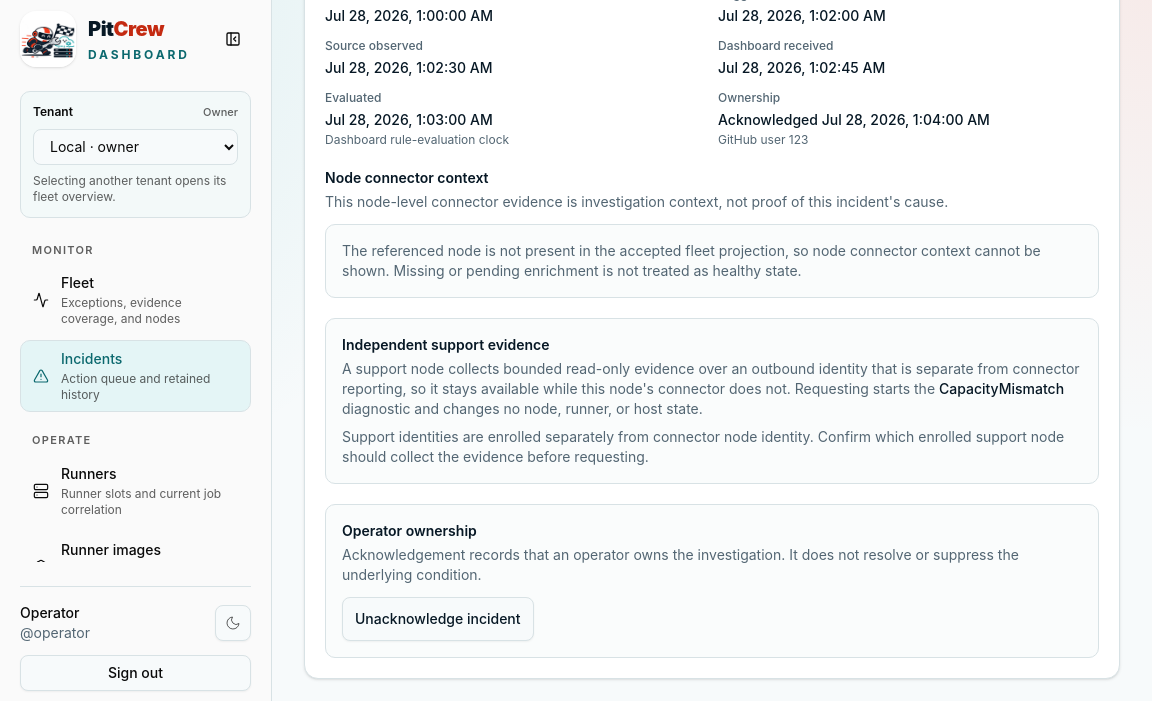
Scenario: IncidentsPage › unacknowledges an acknowledged incident and refreshes its lifecycle state
This screenshot has width=1152, height=701.
(page scrolled)
Expected: the text "GitHub user 123" is shown, [718,132,808,147]
Step 1. Click the button "Unacknowledge incident" → (438, 619), box [342,597,534,641]
(page scrolled)
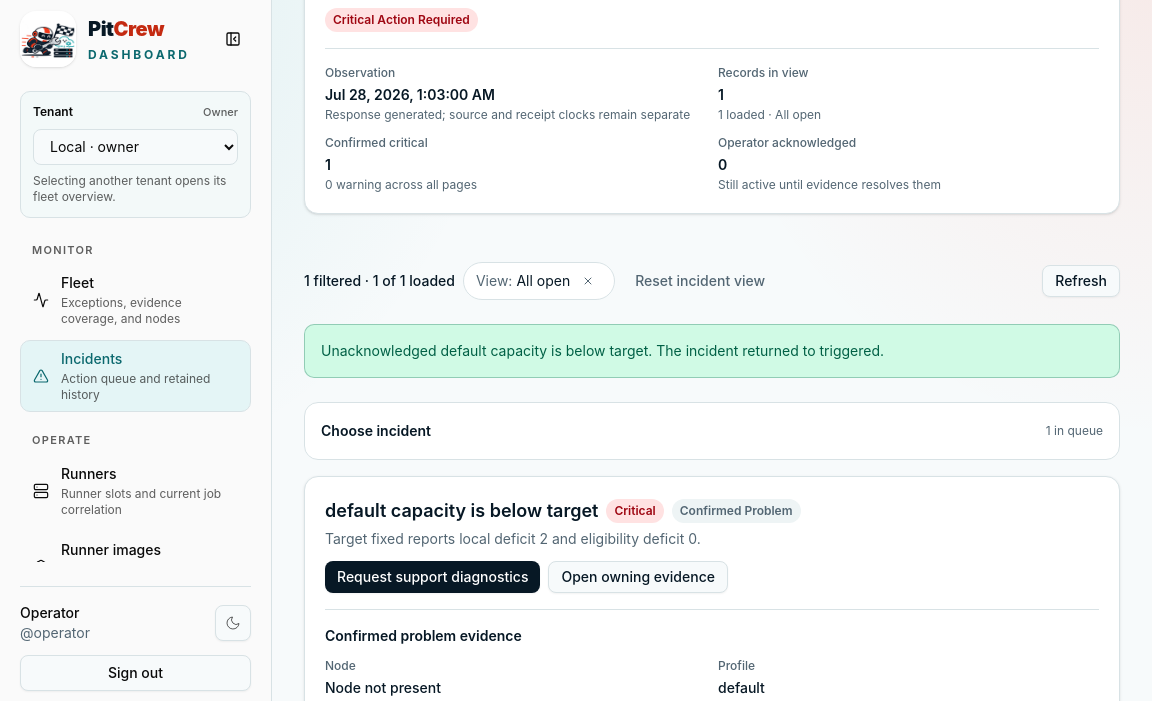
Expected: the text "Unacknowledged default capacity is below target. The incident returned to triggered." is shown, [321,342,884,359]
